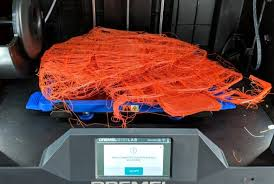fail: (38, 23, 272, 120)
